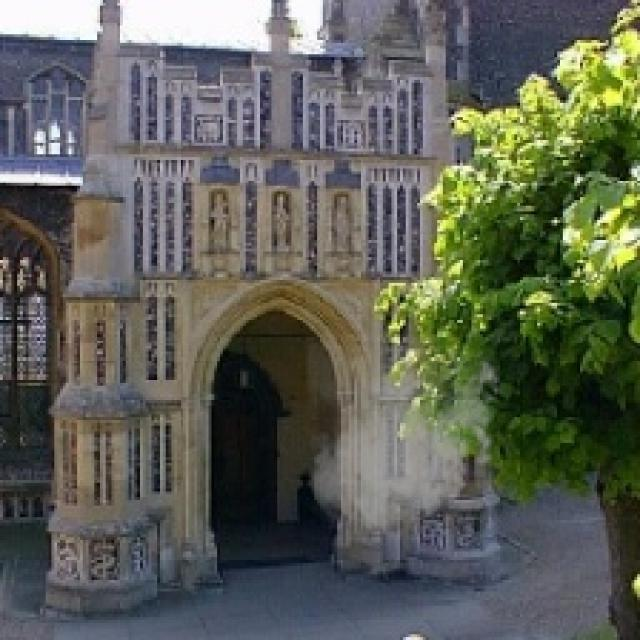smoke: (306, 334, 506, 546)
